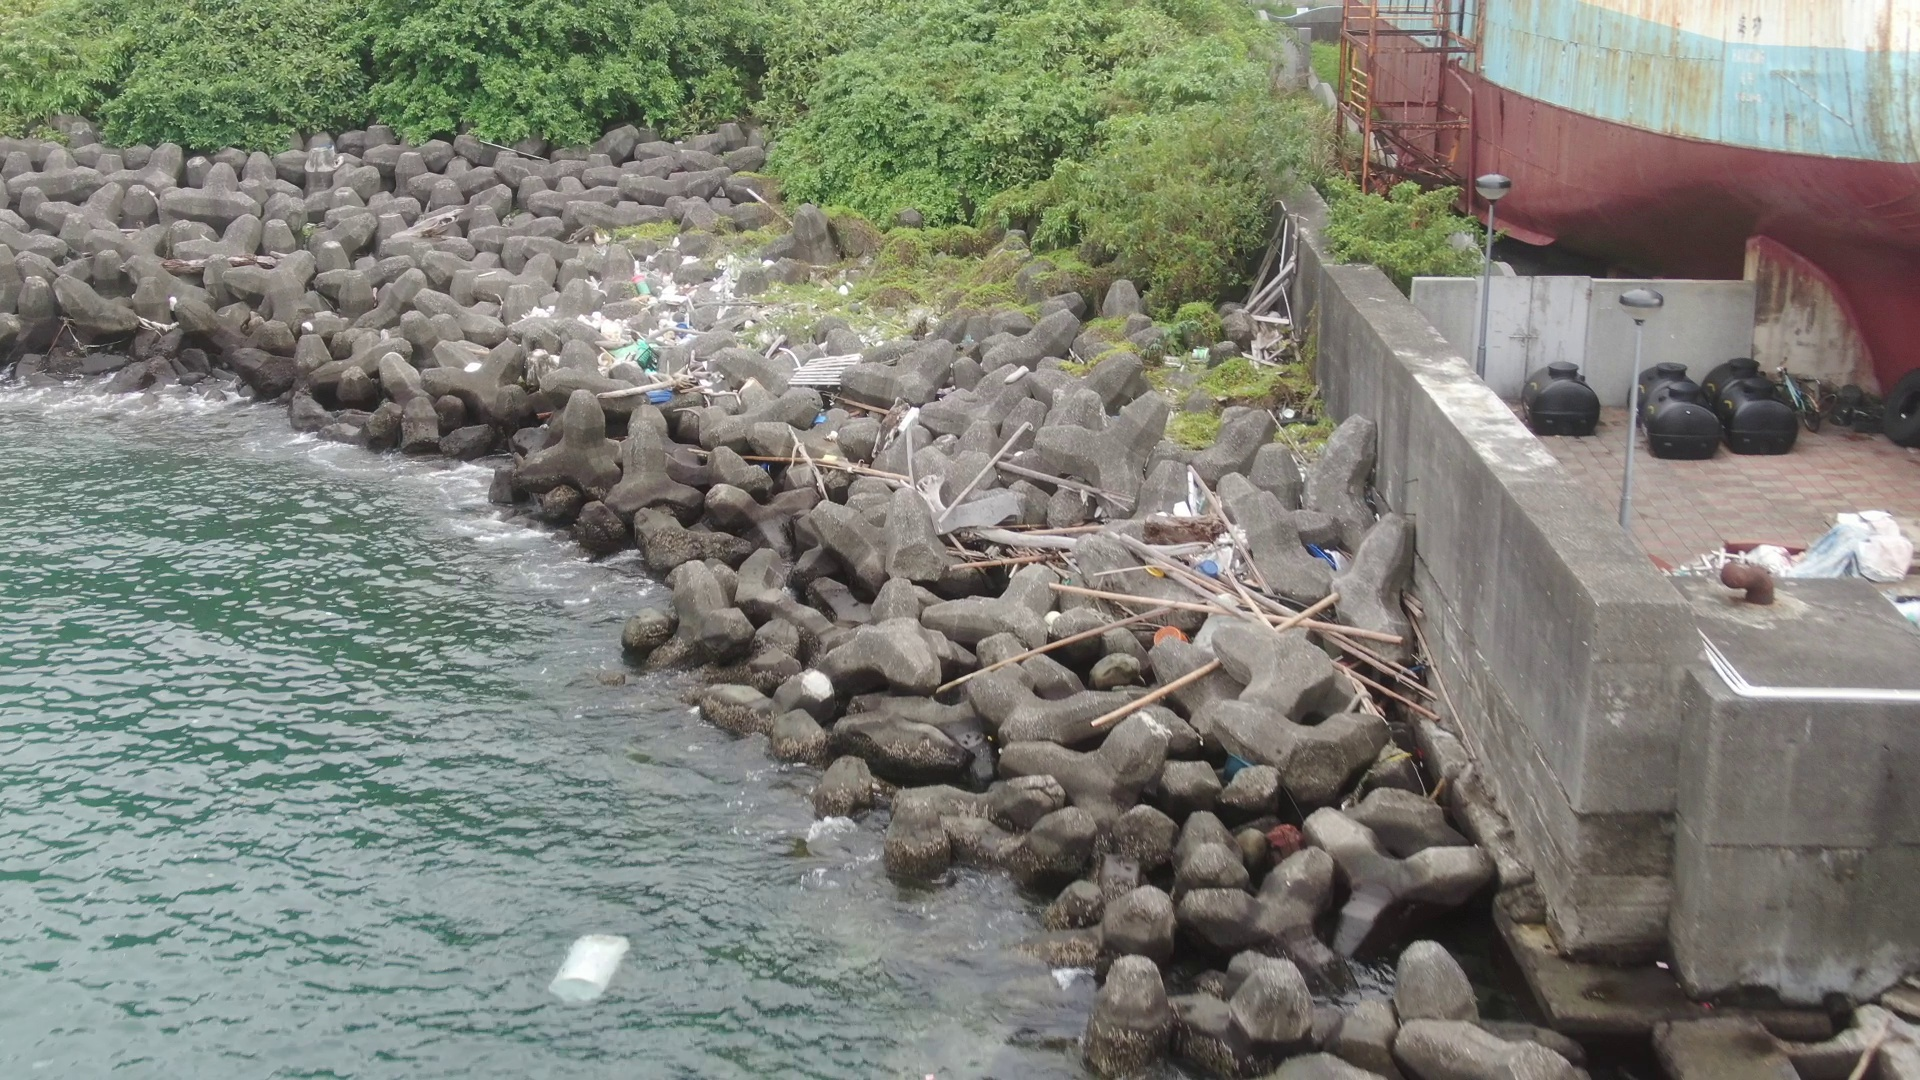garbage: (1109, 451, 1422, 775), (512, 225, 884, 415), (732, 407, 1125, 568), (1770, 513, 1913, 585), (549, 927, 628, 1004)
